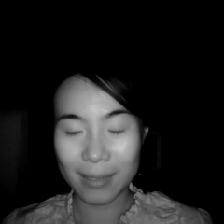happy: (39, 56, 157, 206)
